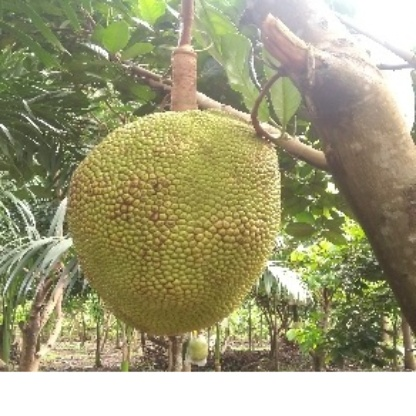mit: (58, 103, 289, 337)
